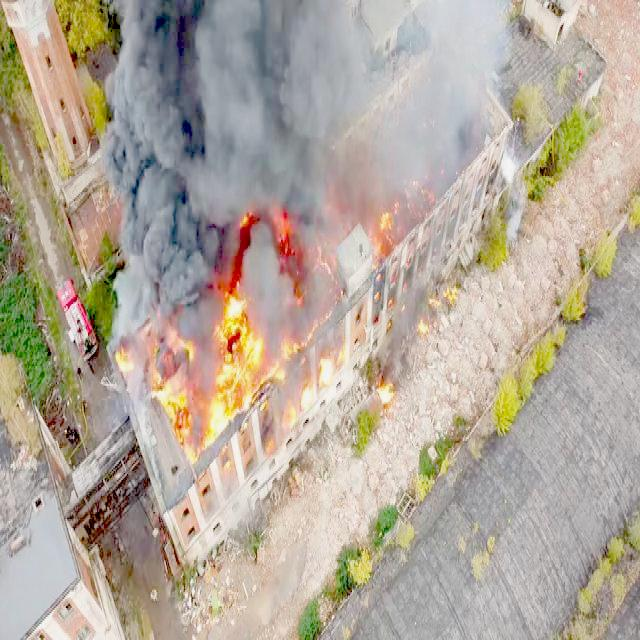fire: (146, 333, 202, 397), (254, 323, 296, 377), (222, 298, 252, 369), (214, 365, 251, 408), (164, 370, 194, 421), (194, 396, 226, 436), (294, 281, 328, 318), (298, 238, 329, 278), (276, 386, 298, 426), (388, 200, 410, 236), (368, 215, 388, 251), (298, 363, 314, 408), (116, 338, 138, 370), (276, 223, 296, 257), (260, 406, 274, 444), (182, 434, 202, 460), (322, 353, 338, 382), (378, 380, 396, 404), (443, 281, 460, 301), (414, 194, 428, 216), (418, 318, 431, 340), (406, 179, 426, 192)
smoke: (210, 72, 318, 152), (144, 59, 208, 158), (165, 0, 239, 69), (148, 160, 202, 246), (431, 0, 499, 65), (238, 133, 302, 200), (240, 0, 292, 77), (434, 69, 484, 147), (329, 142, 382, 212), (296, 0, 342, 80), (122, 0, 166, 67), (128, 195, 166, 268), (334, 10, 365, 94), (103, 124, 144, 179), (385, 118, 429, 164), (206, 158, 240, 216), (167, 247, 207, 294), (248, 221, 276, 283), (114, 278, 153, 322), (310, 89, 349, 129), (107, 73, 145, 114), (182, 294, 216, 337), (252, 286, 292, 317), (363, 53, 386, 91), (435, 148, 457, 176), (154, 274, 167, 314), (508, 207, 522, 230), (348, 95, 366, 111)
